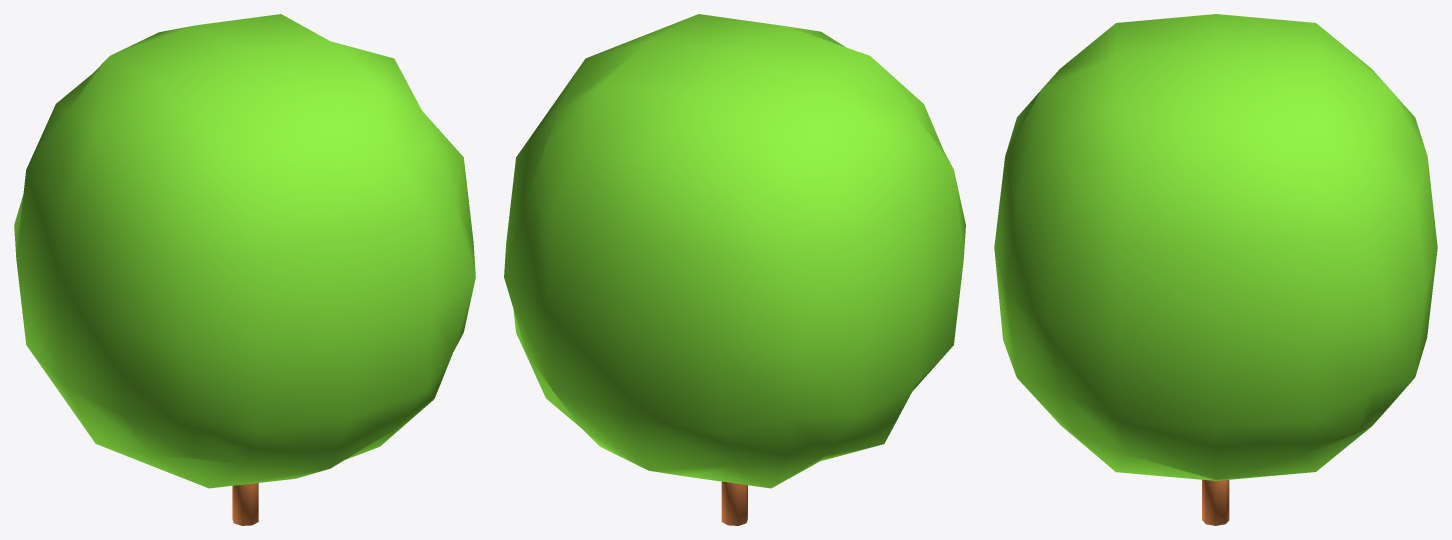
File: Wood.fbx
3 renders of one model, left to right at view 1: azimuth 30°, elevation 25°; view 2: azimuth 150°, elevation 25°; view 3: azimuth 270°, elevation 25°, orthographic.
Parts seen in each view (by area): view 1: Cylinder; view 2: Cylinder; view 3: Cylinder.
Part boxes in pixels (<box>): Cylinder: <box>14,14,475,525</box>; Cylinder: <box>504,14,965,525</box>; Cylinder: <box>994,14,1437,525</box>.
Size of the model in its own units: 198 by 233 by 198.
